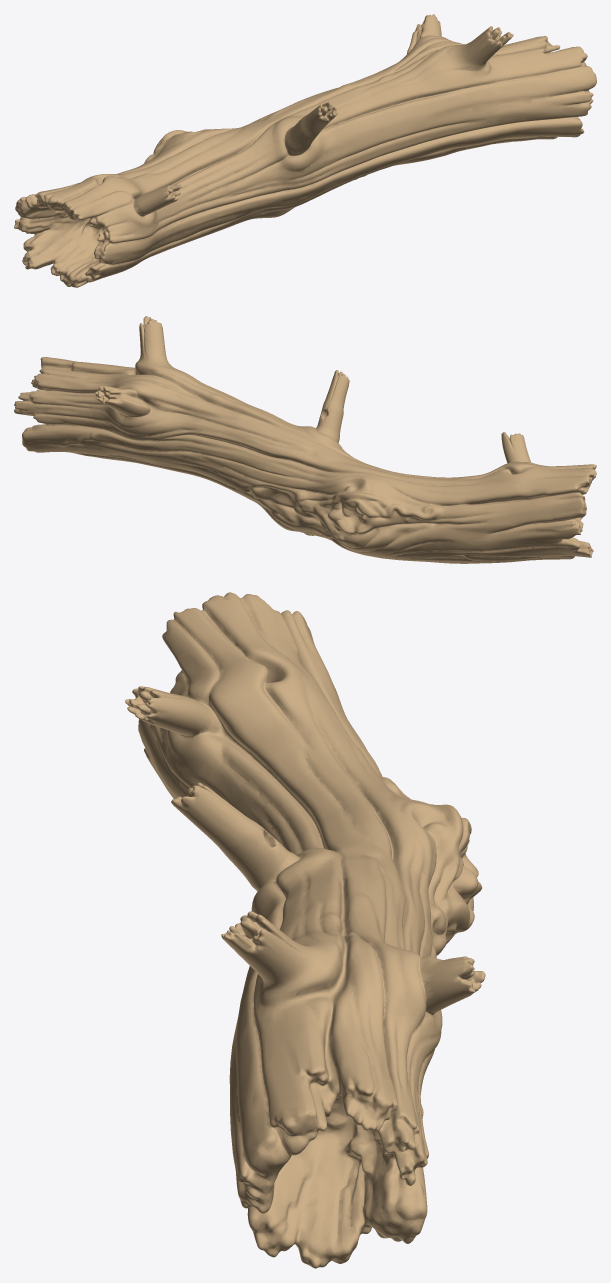
Rendered from gen-driftwood-1.glb.
3 views of the same model, one above another, from view 1: azimuth 30°, elevation 25°; view 2: azimuth 150°, elevation 25°; view 3: azimuth 270°, elevation 25° (orthographic). The views are drawn at different scales.
Parts seen in each view (by area): view 1: gen-driftwood-1_part1; view 2: gen-driftwood-1_part1; view 3: gen-driftwood-1_part1.
Part boxes in pixels (bbox=[...]): gen-driftwood-1_part1: bbox=[14, 14, 596, 287]; gen-driftwood-1_part1: bbox=[14, 316, 596, 563]; gen-driftwood-1_part1: bbox=[125, 592, 485, 1268].
Size of the model in its own units: 2044 by 550 by 585.
